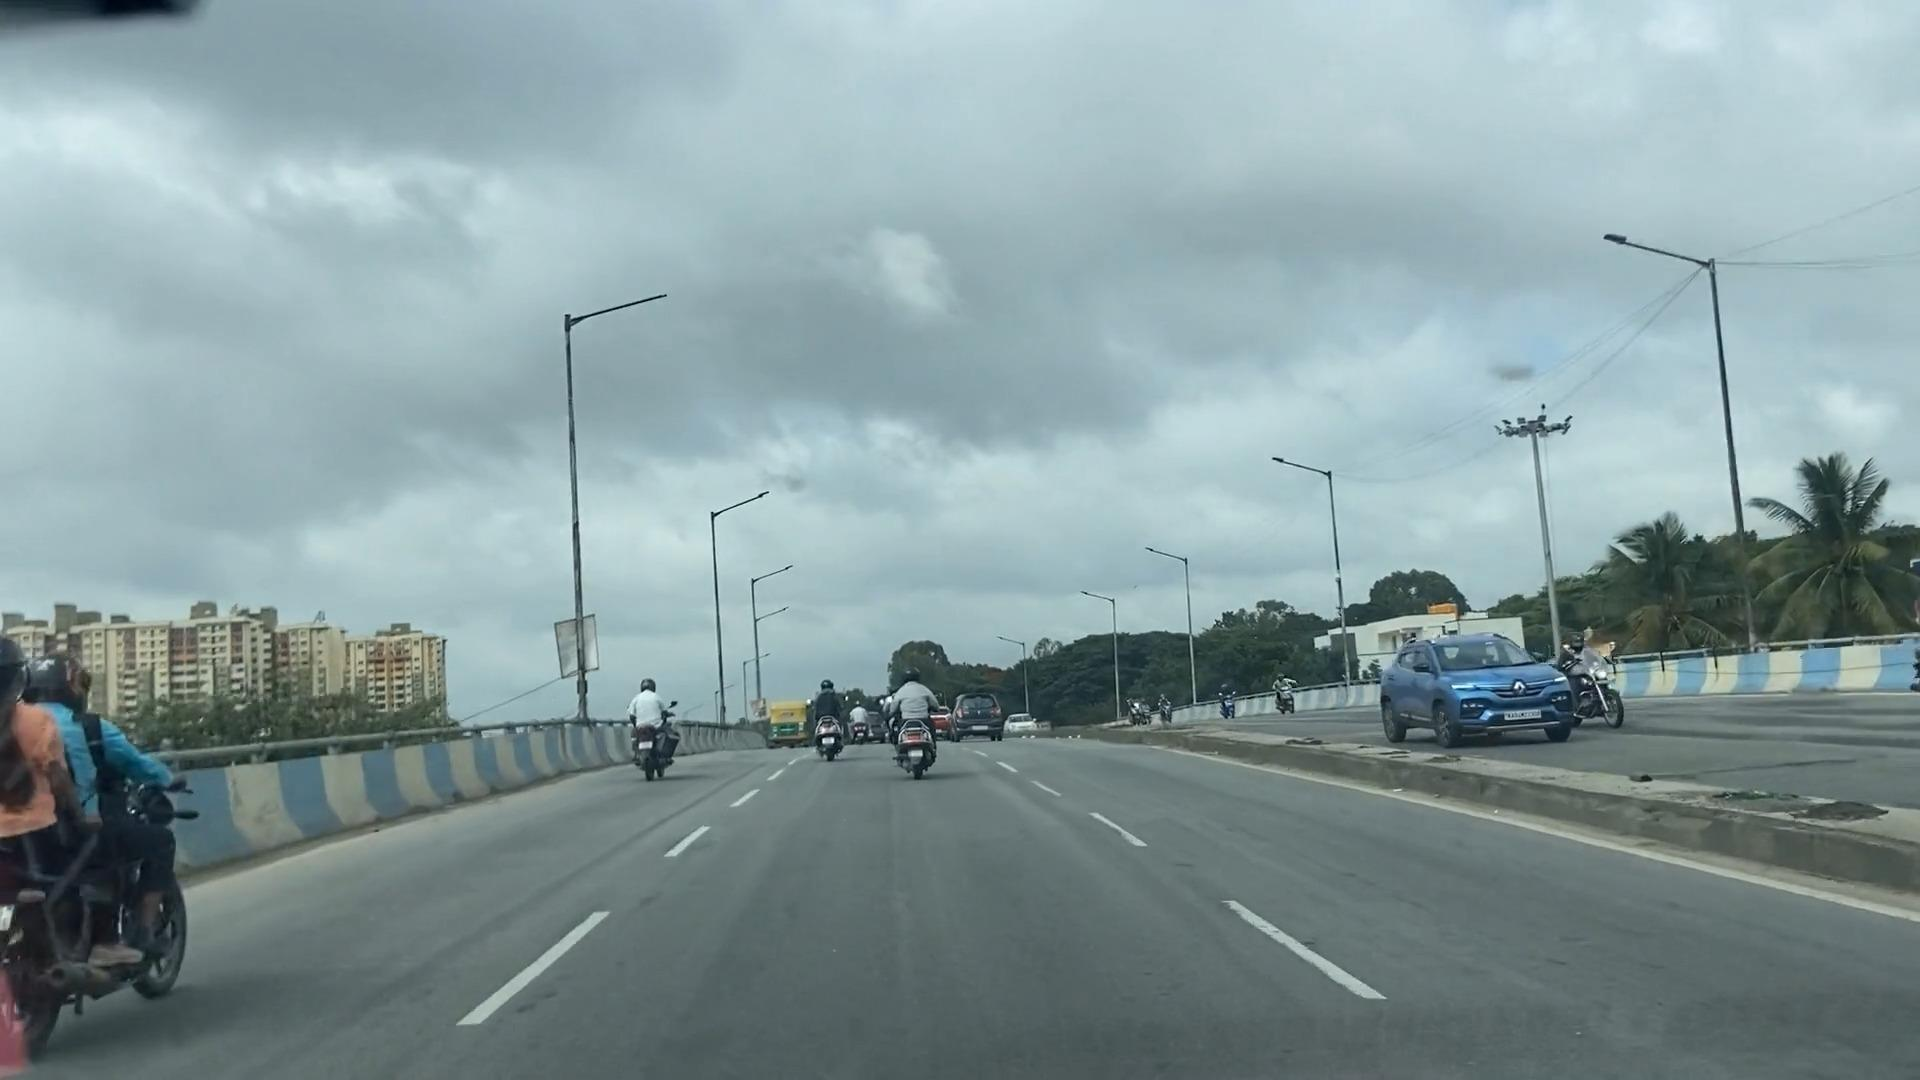LMV: (882, 673, 939, 775), (626, 674, 680, 778), (810, 678, 845, 764), (952, 700, 1004, 740)
